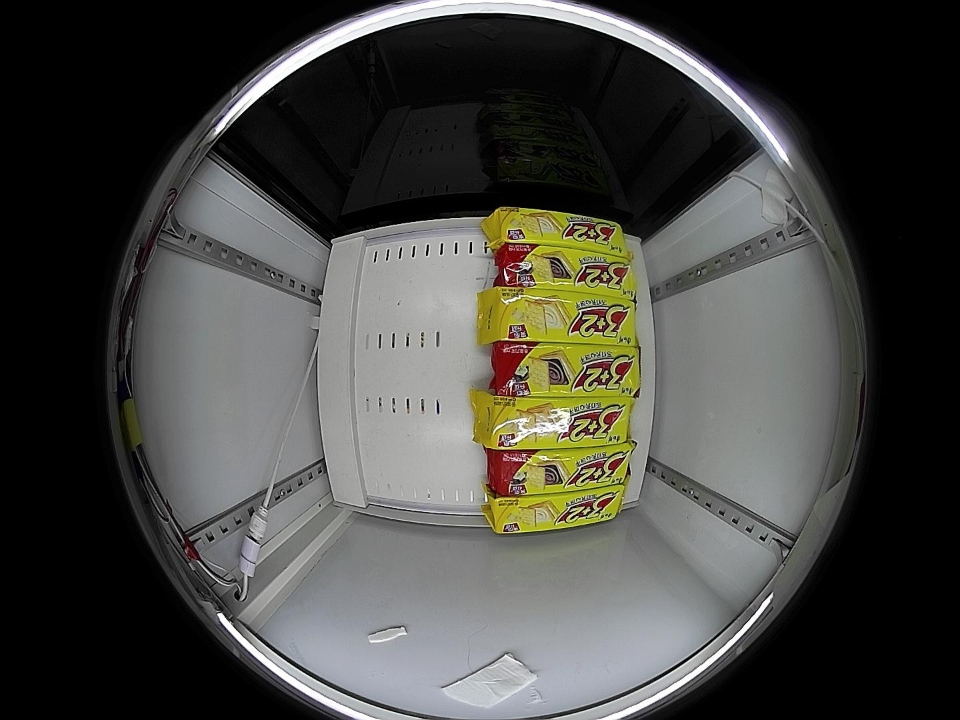3+2-2: (482, 290, 637, 344), (483, 397, 633, 448), (487, 487, 627, 534), (488, 208, 628, 255)
3jia2: (492, 344, 641, 397), (490, 446, 633, 494), (498, 248, 635, 295)
